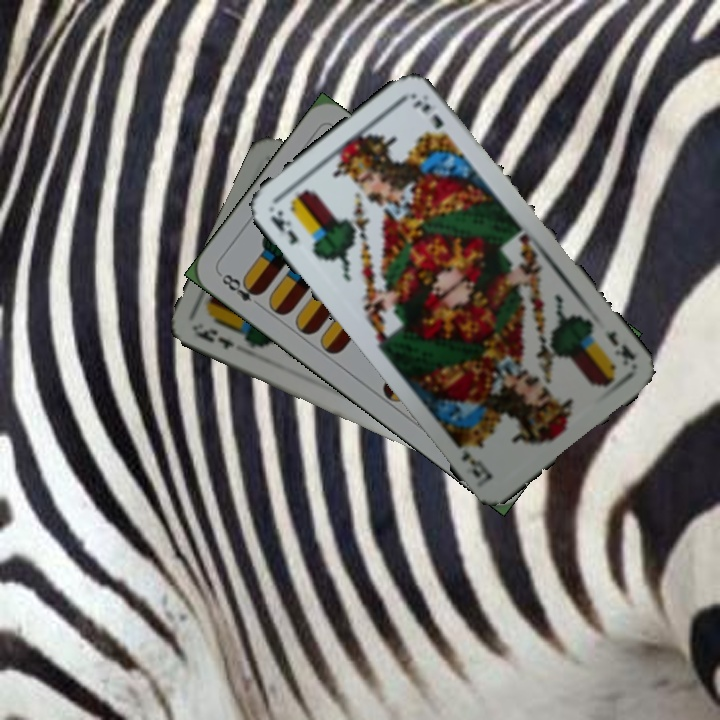E8: (215, 269, 265, 311)
EK: (601, 326, 639, 369), (266, 206, 302, 248), (190, 324, 237, 352)
